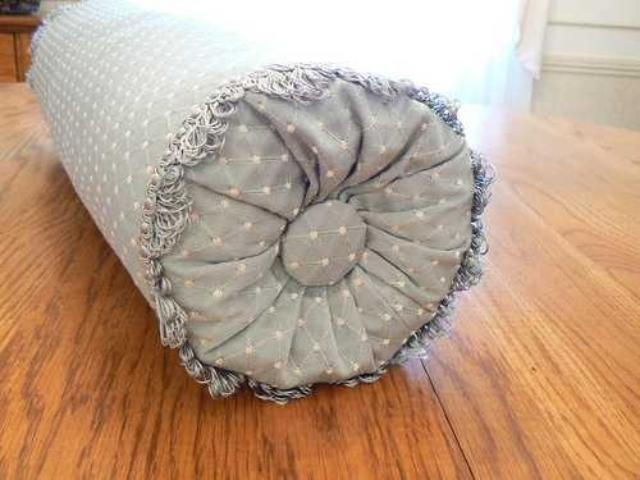pillow: (24, 0, 493, 404)
